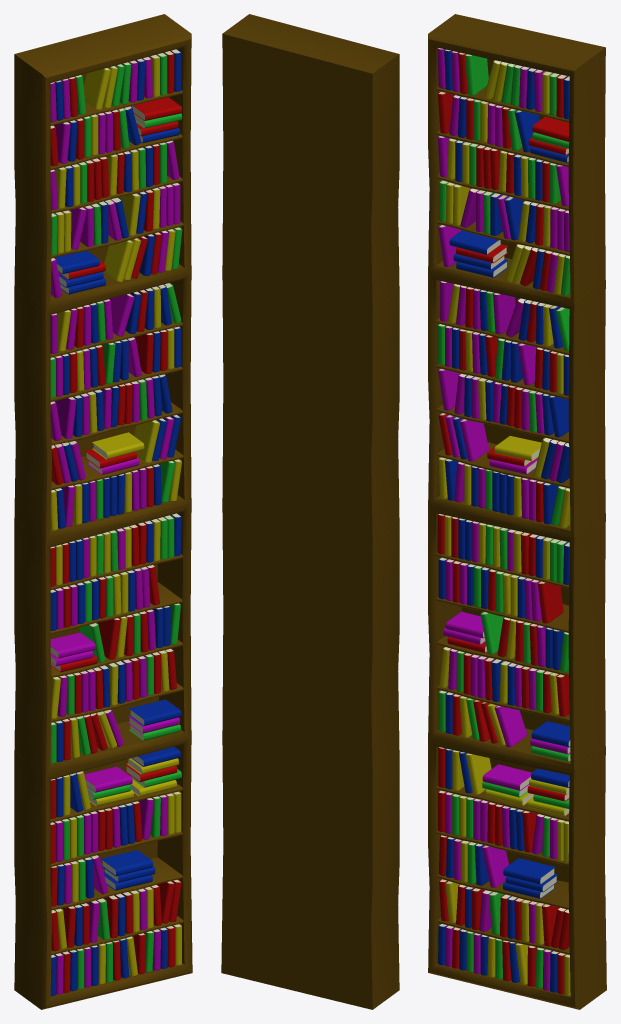
The model's file is bookshelf_c.fbx.
The picture shows the model from 3 angles, left to right: view 1: azimuth 30°, elevation 25°; view 2: azimuth 150°, elevation 25°; view 3: azimuth 330°, elevation 25°; orthographic projection.
Parts seen in each view (by area): view 1: books, shelf; view 2: shelf; view 3: books, shelf.
Part boxes in pixels (left/top/right/bottom): books: left=50, top=49, right=182, bottom=996; shelf: left=14, top=14, right=192, bottom=1009; shelf: left=221, top=14, right=399, bottom=1009; books: left=437, top=48, right=570, bottom=996; shelf: left=428, top=14, right=606, bottom=1009.
Size of the model in its own units: 94.85 by 563 by 31.41.
